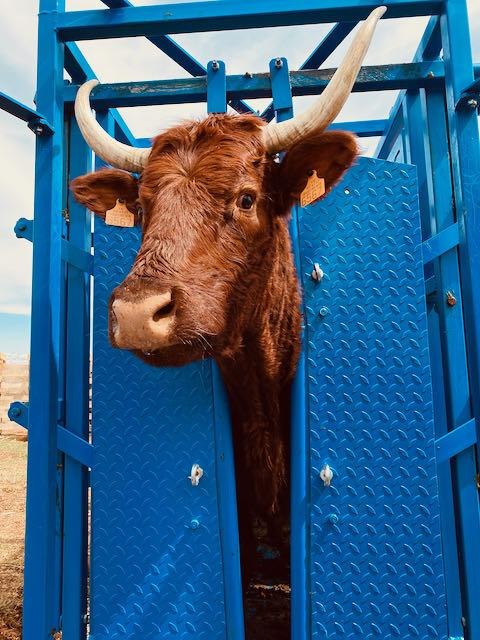muzzles: (98, 292, 183, 357)
